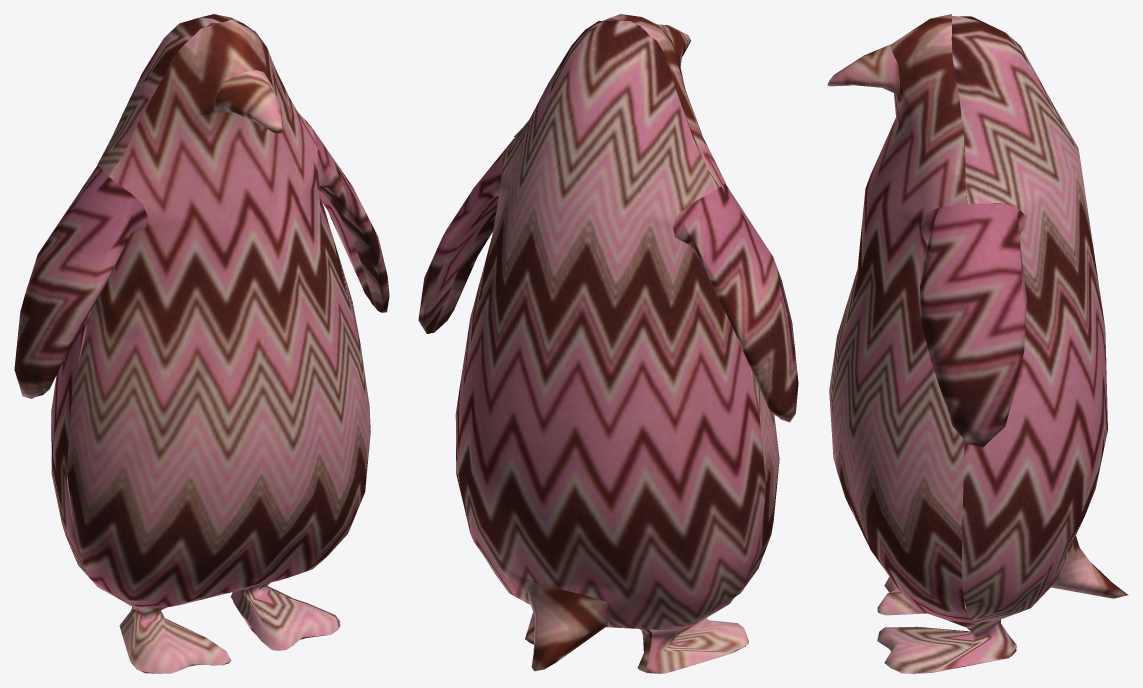
File: penguin.glb
3 views of the same model, side by side, from view 1: azimuth 30°, elevation 25°; view 2: azimuth 150°, elevation 25°; view 3: azimuth 270°, elevation 25° (orthographic).
Parts seen in each view (by area): view 1: Penguin_CH.001; view 2: Penguin_CH.001; view 3: Penguin_CH.001.
Part boxes in pixels (<box>): Penguin_CH.001: <box>14,14,389,673</box>; Penguin_CH.001: <box>418,14,798,673</box>; Penguin_CH.001: <box>827,14,1128,673</box>.
Size of the model in its own units: 3.56 by 5.7 by 2.56.
1 material, 1 textured.
